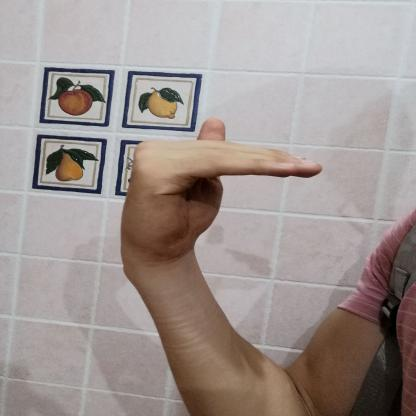KHAA: (103, 106, 349, 282)
